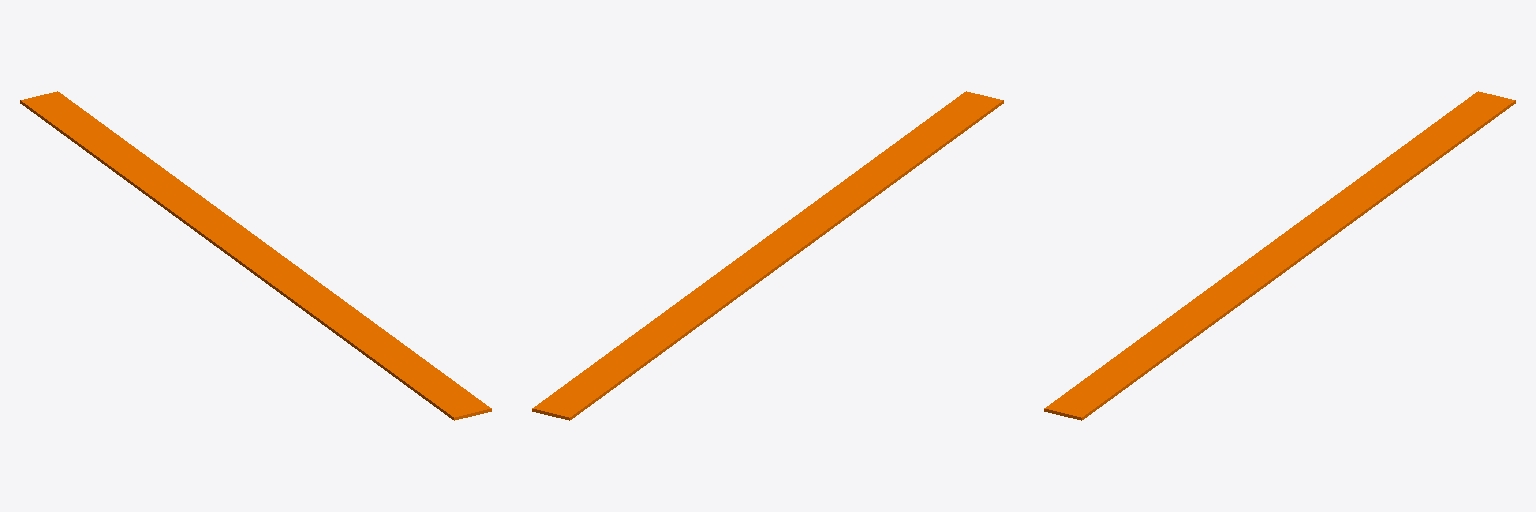
robot.urdf — ypaddle2D:
<robot name="ypaddle2D">
    
  <link name="base_link">
    <inertial>
      <origin rpy="0 0 0" xyz="0 0 0"/>
       <mass value="0"/>
       <inertia ixx="0" ixy="0" ixz="0" iyy="0" iyz="0" izz="0"/>
    </inertial>
  </link>

  <link name="x_link">
    <inertial>
      <origin rpy="0 0 0" xyz="0 0 0"/>
       <mass value="0.0001"/>
       <inertia ixx="0.0001" ixy="0" ixz="0" iyy="0.0001" iyz="0" izz="0.0001"/>
    </inertial>
  </link>


  <link name="y_link">
    <inertial>
      <origin rpy="0 0 0" xyz="0 0 0"/>
       <mass value="0.0001"/>
       <inertia ixx="0.0001" ixy="0" ixz="0" iyy="0.0001" iyz="0" izz="0.0001"/>
    </inertial>
  </link>


  <link name="theta_link">
    <inertial>
      <origin rpy="0 0 0" xyz="0 0 0"/>
       <mass value="1.0"/>
       <inertia ixx="0.0001" ixy="0" ixz="0" iyy="0.0001" iyz="0" izz="0.0001"/>
    </inertial>

    <visual>
      <origin rpy="0 0 0" xyz="0 0 0"/>
      <geometry>
        <box size="2.5 50 0.2" />      
      </geometry>
      <material name="white">
        <color rgba="1 0.5 0 1"/>
      </material>
    </visual>
    
    <collision>
      <origin rpy="0 0 0" xyz="0 0 0"/>
      <geometry>
        <box size="2.5 50 0.2" />
      </geometry>
    </collision>
  </link>

  <joint name = "x_prismatic" type = "prismatic">
    <origin xyz = "0.0 0.0 0.0" rpy = "0 0 0"/> 
    <parent link = "base_link"/>
    <child link= "x_link"/>
    <axis xyz = "1 0 0"/>
    <limit effort="1.0" lower="-10000" upper="10000" velocity="10000" />
    <dynamics damping = "0.0" friction="0.0" />
  </joint>

  <joint name = "y_prismatic" type = "prismatic">
    <origin xyz = "0.0 0.0 0.0" rpy = "0 0 0"/> 
    <parent link = "x_link" />
    <child link= "y_link"/>
    <axis xyz = "0 1 0" />
    <limit effort="1.0" lower="-10000" upper="10000" velocity="10000" />
    <dynamics damping = "0.0" friction="0.0" />
  </joint>

   <joint name = "theta_revolute" type = "revolute">
    <origin xyz = "0.0 0.0 0.0" rpy = "0 0 0"/> 
    <parent link = "y_link" />
    <child link= "theta_link"/>
    <axis xyz = "0 0 1" />
    <limit effort="1.0" lower="-10000" upper="10000" velocity="10000" />
    <dynamics damping = "0.0" friction="0.0" />
  </joint>

    
</robot>

--- Render facts (derived) ---
The picture shows the robot from 3 angles, left to right: view 1: azimuth 30°, elevation 25°; view 2: azimuth 150°, elevation 25°; view 3: azimuth 330°, elevation 25°; orthographic projection.
Robot: ypaddle2D — 4 links, 3 joints (1 revolute, 2 prismatic); root link base_link; default pose: every joint at zero.
Visible links, largest first — view 1: theta_link; view 2: theta_link; view 3: theta_link.
Boxes of the visible links, x1=… form: theta_link: x1=20, y1=91, x2=491, y2=420; theta_link: x1=532, y1=91, x2=1003, y2=420; theta_link: x1=1044, y1=91, x2=1515, y2=420.
Bounding box of the posed robot: 2.5 × 50 × 0.2 m (x, y, z).
Geometry: primitives only (box / cylinder / sphere), no mesh files.